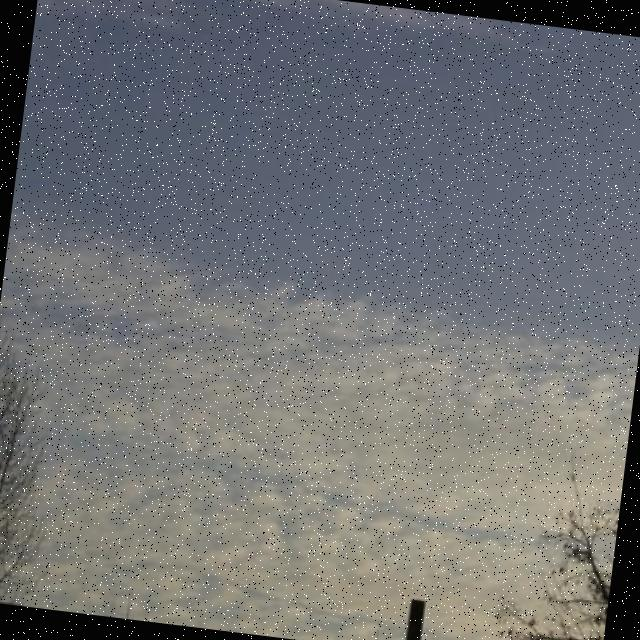Ac: (70, 216, 616, 493)
